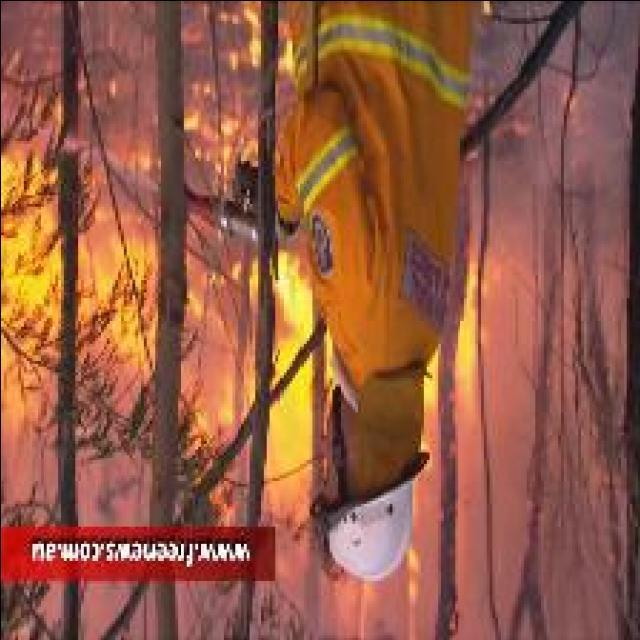Fire: (0, 155, 155, 420), (240, 252, 308, 484)
